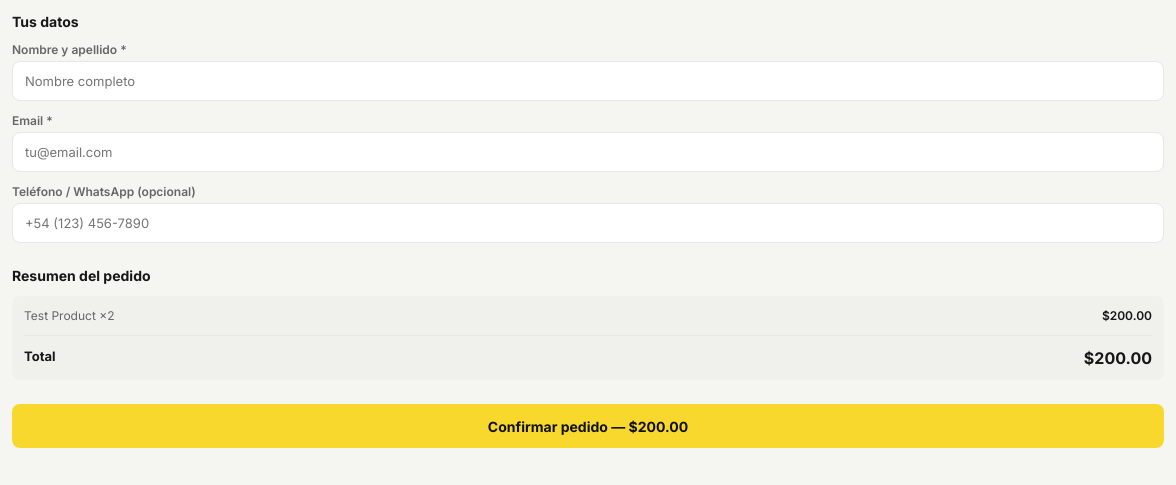
Test: CheckoutForm › validates nombre field
The width and height of the screenshot is (1176, 485).
Type "ab" into the field with test id "input-nombre" at (588,81), box [12, 61, 1164, 101]
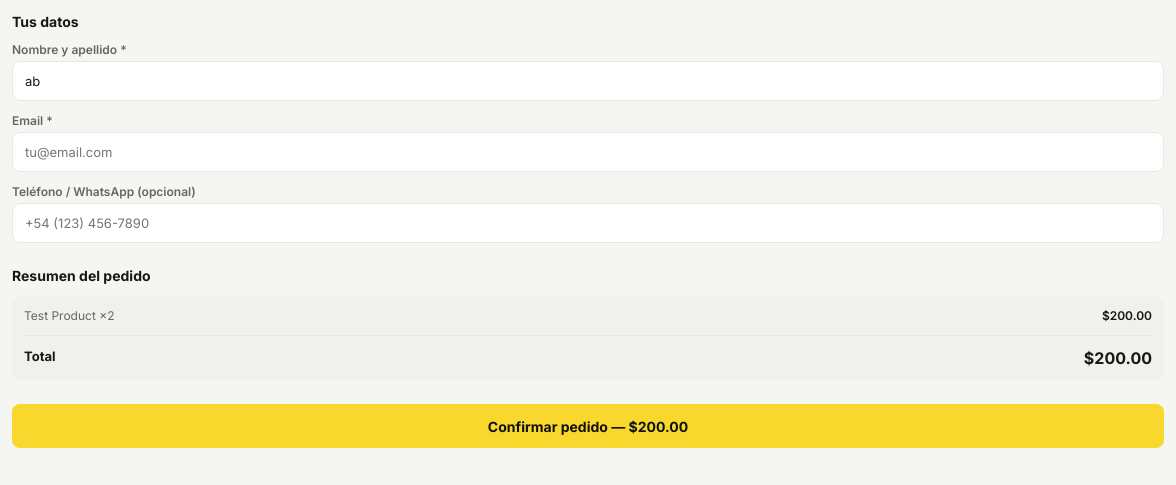
Click the button with test id "submit-button" at (588,426), box [12, 404, 1164, 448]
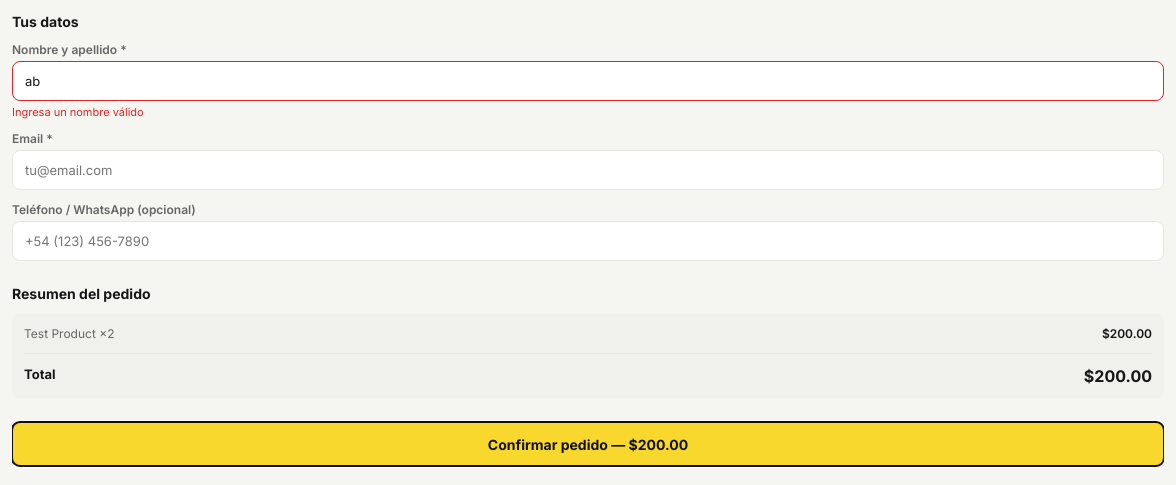
Expected: the text "Ingresa un nombre válido" is shown, [12, 105, 144, 119]
